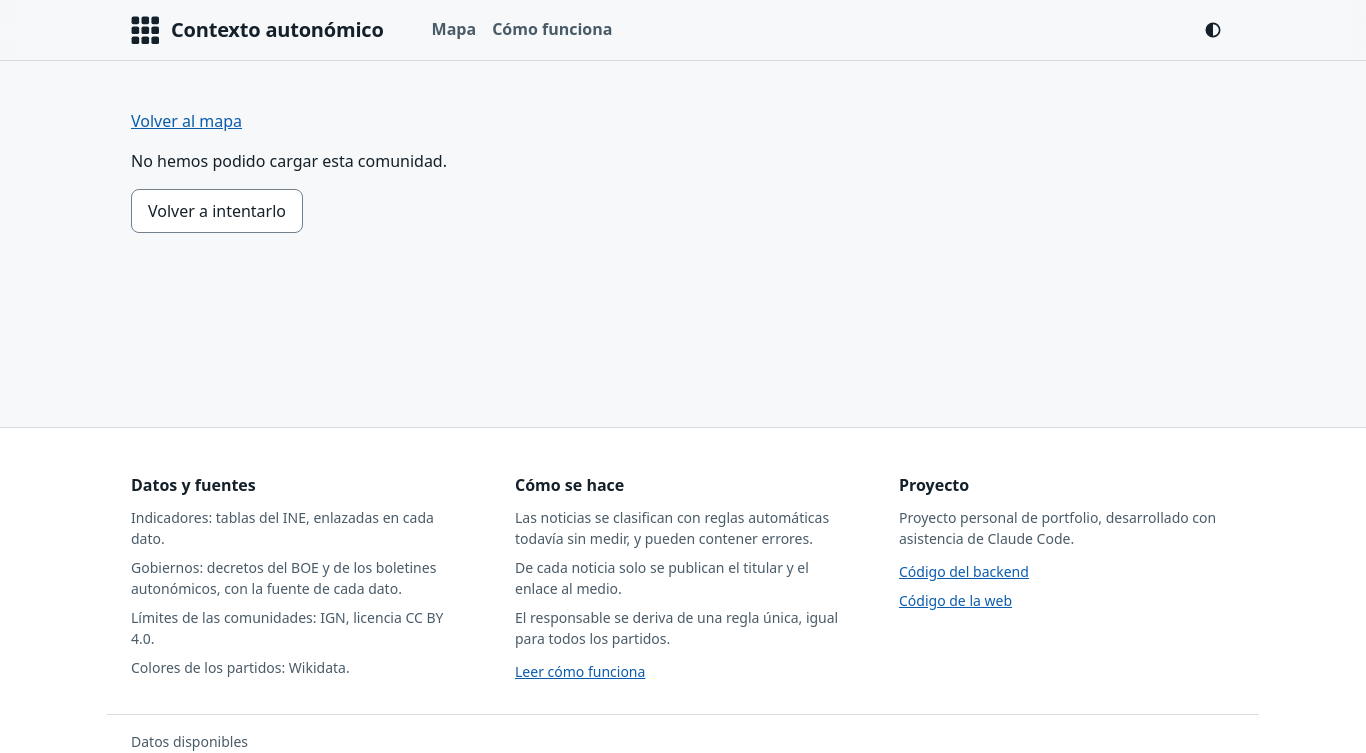
it: community page › shows a written error with a retry when the data cannot be loaded
Expected: the message "No hemos podido cargar esta comunidad. Volver a intentarlo" is shown, [131, 150, 447, 233]
What coordinates should you click on to do the following:
click the button "Volver a intentarlo"
I would click on:
 (217, 211)
Its box is [131, 189, 303, 233].
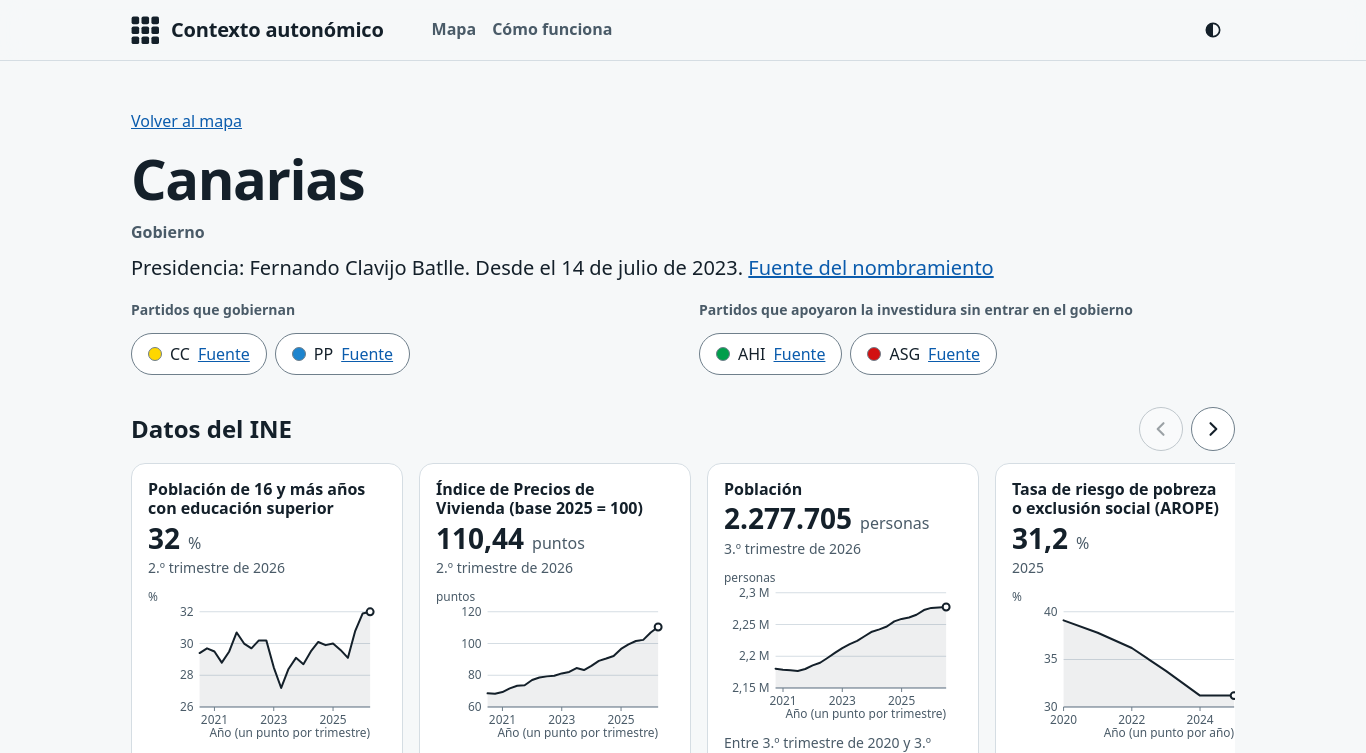
Now the heading "Canarias" is shown, box [131, 140, 364, 216]
